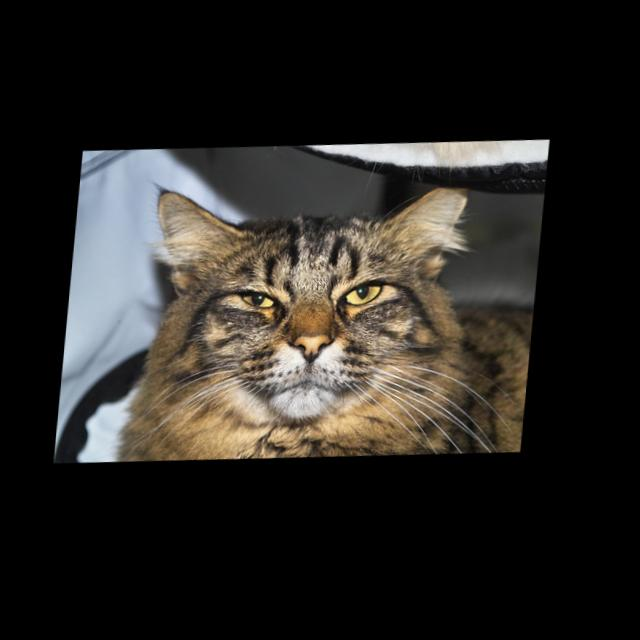animals: (152, 172, 468, 375)
